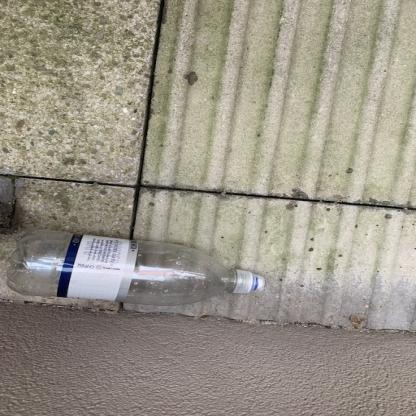trash: (6, 226, 270, 310)
